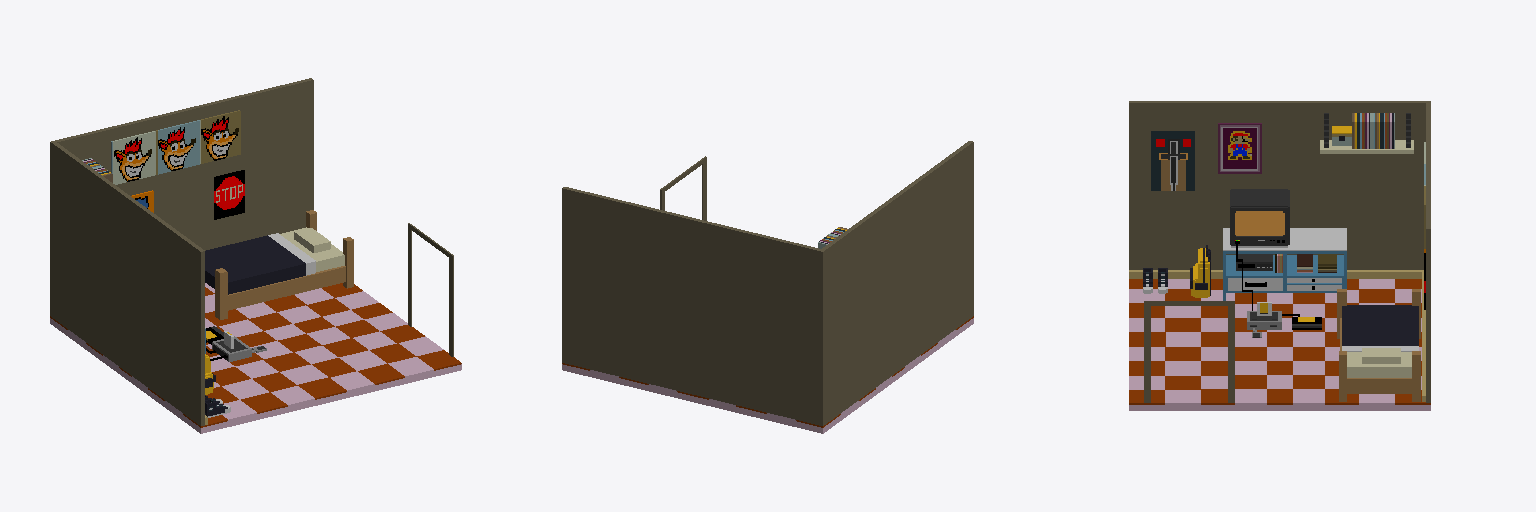
3 renders of one model, left to right at view 1: azimuth 30°, elevation 25°; view 2: azimuth 150°, elevation 25°; view 3: azimuth 270°, elevation 25°, orthographic.
Visible parts, largest first — view 1: object 1; view 2: object 1; view 3: object 1.
Part boxes in pixels (left/top/right/bottom): object 1: left=50, top=78, right=461, bottom=433; object 1: left=562, top=141, right=973, bottom=433; object 1: left=1129, top=101, right=1430, bottom=410.
Bounding box in the file's own units: 18 × 12 × 18.
1 materials, 1 textured.